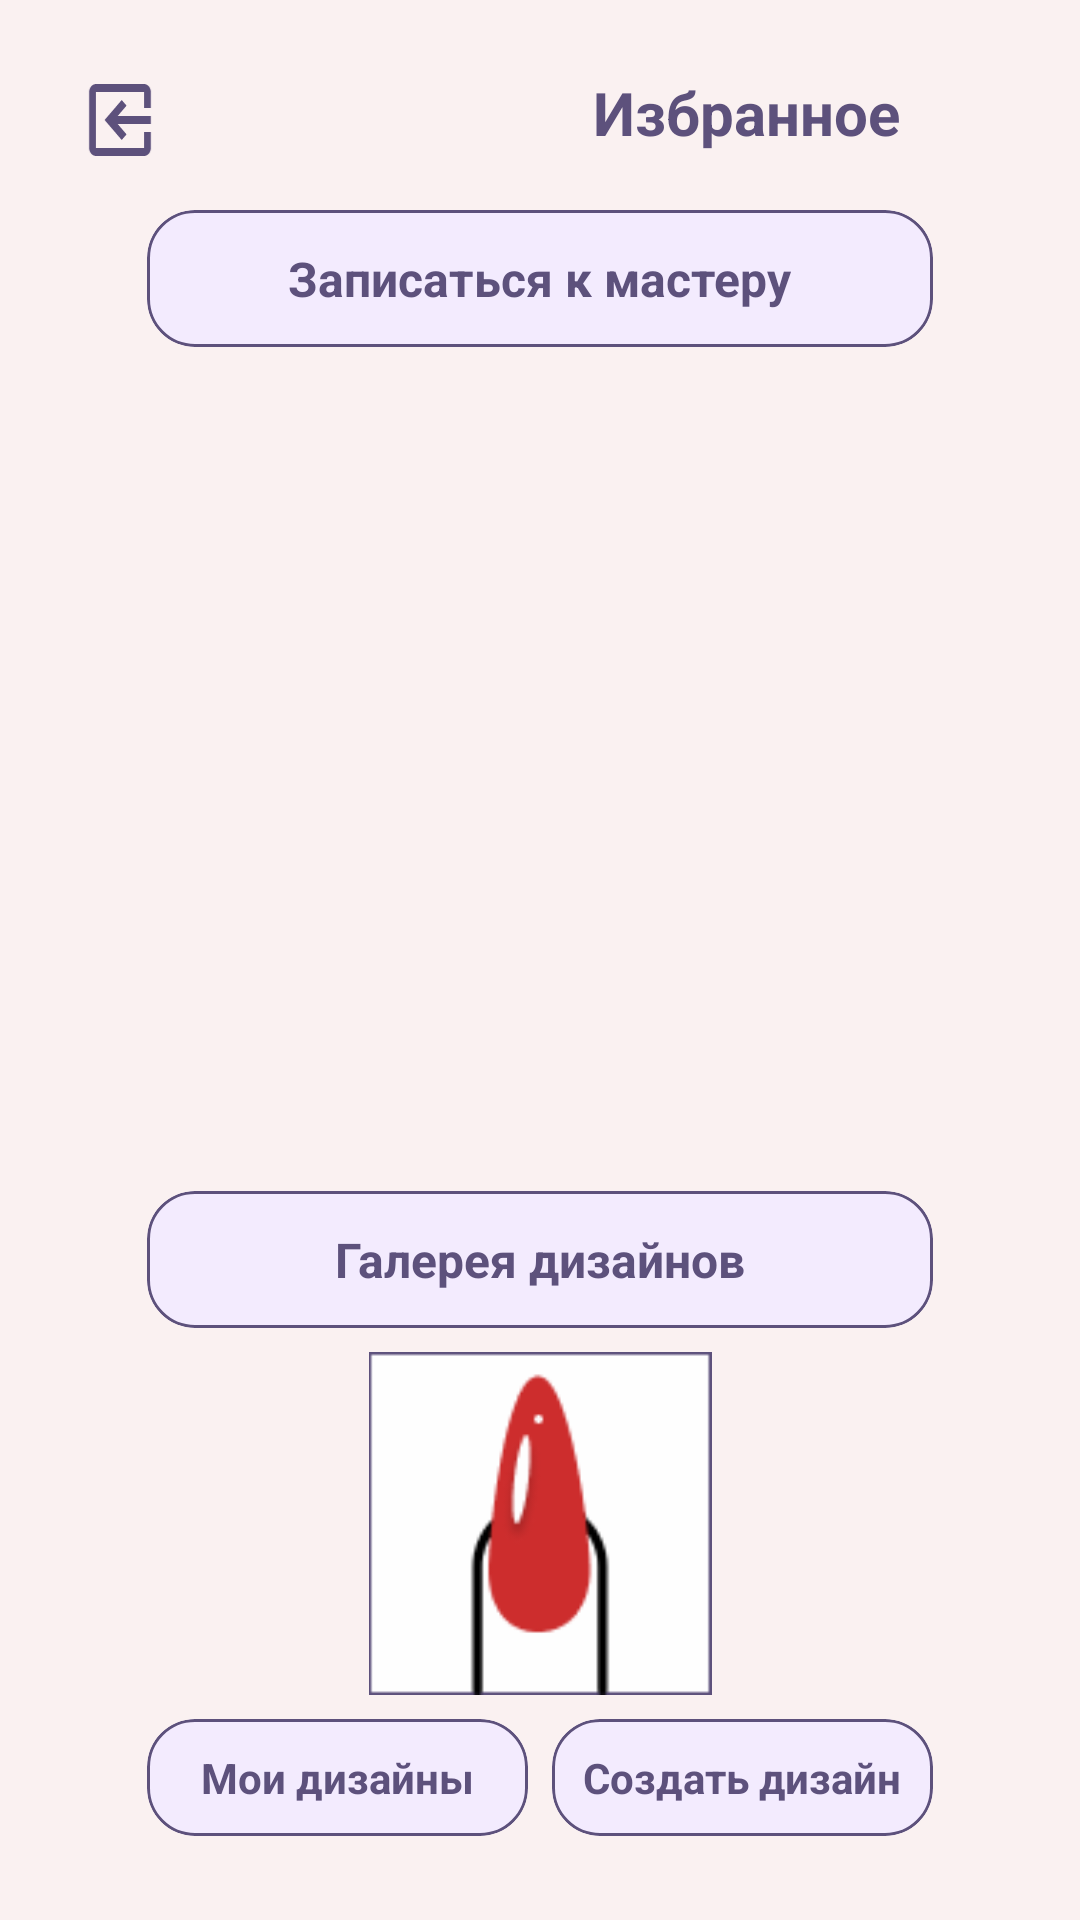

Where icons sit on this 1080 x 1920 app screen, as (x1,y1,x2,y2):
nail demo constructor: (369,1352,712,1695)
